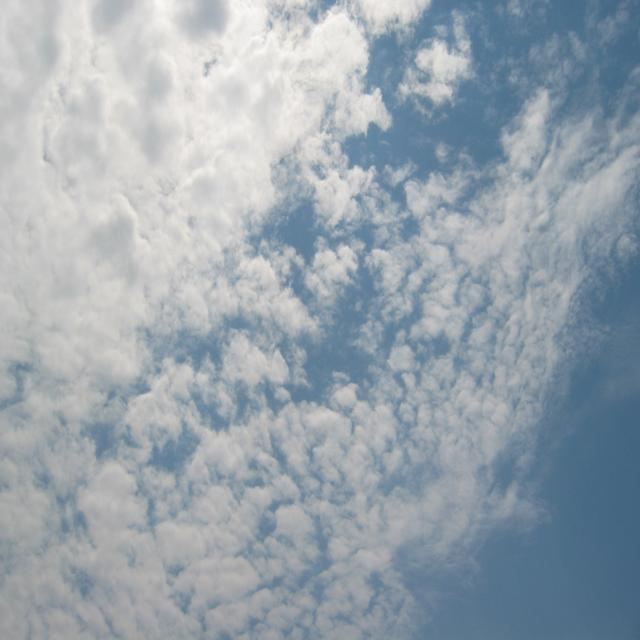altocumulus: (90, 101, 490, 640)
